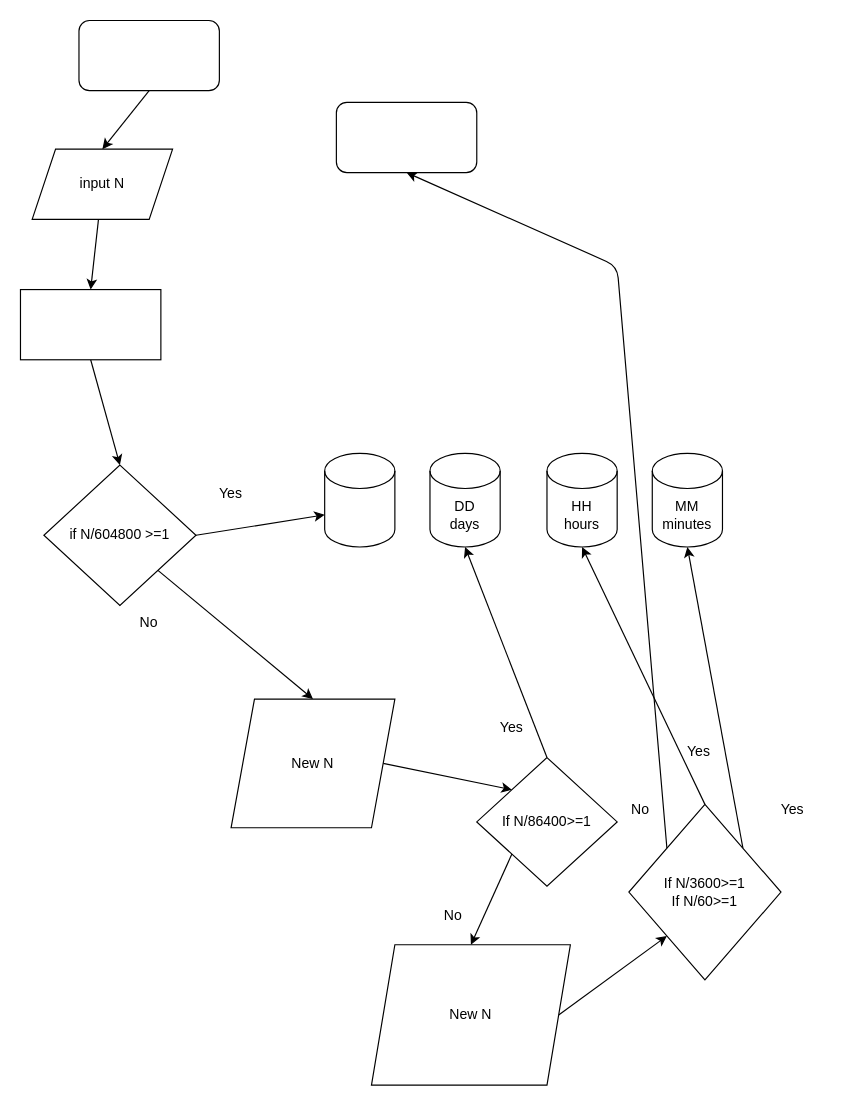
Image size: 848x1106. Some labels were removed from this diagram. Here are the shapes that lost their labels. From the top down, the box of each, then its label:
(78, 19, 219, 91): Start
(335, 101, 477, 173): End
(19, 288, 161, 360): if N/604800
(324, 452, 395, 547): WW weeks
